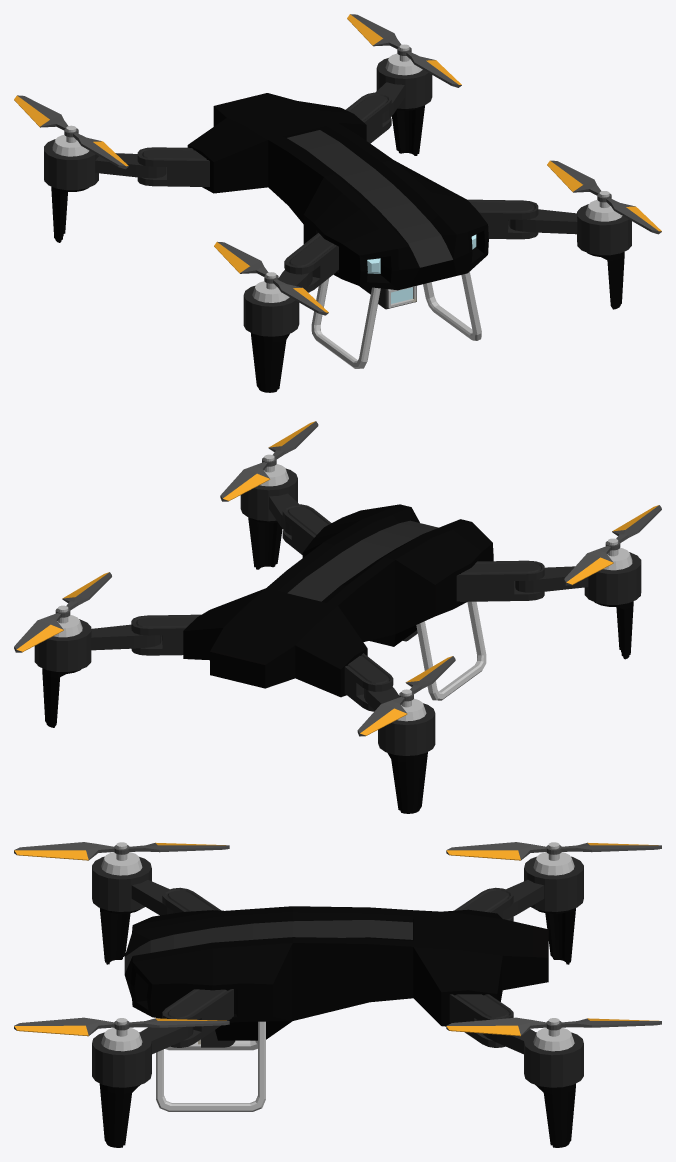
Rendered from Drone2.glb.
The picture shows the model from 3 angles, top to bottom: view 1: azimuth 30°, elevation 25°; view 2: azimuth 150°, elevation 25°; view 3: azimuth 270°, elevation 25°; orthographic projection. The views are drawn at different scales.
Parts seen in each view (by area): view 1: Body, Rotor_FL, Rotor_BL, Rotor_BR, Rotor_FR, Cube002; view 2: Body, Rotor_FR, Rotor_BL, Rotor_FL, Rotor_BR; view 3: Body, Rotor_BL, Rotor_FL, Rotor_FR, Rotor_BR.
Part boxes in pixels (x1,y1,x2,y2): Body: [44, 44, 631, 392]; Rotor_FL: [547, 160, 661, 234]; Rotor_BL: [347, 14, 461, 87]; Rotor_BR: [14, 95, 128, 169]; Rotor_FR: [214, 241, 328, 315]; Cube002: [378, 285, 416, 309]; Body: [34, 454, 641, 813]; Rotor_FR: [564, 505, 661, 585]; Rotor_BL: [14, 572, 111, 652]; Rotor_FL: [220, 421, 318, 501]; Rotor_BR: [357, 656, 455, 736]; Body: [92, 842, 583, 1147]; Rotor_BL: [446, 1017, 661, 1036]; Rotor_FL: [14, 1017, 229, 1036]; Rotor_FR: [14, 842, 229, 860]; Rotor_BR: [446, 842, 661, 860].
Size of the model in its own units: 0.5736 by 0.2076 by 0.7813.
Materials: 1 (1 with a texture image).
